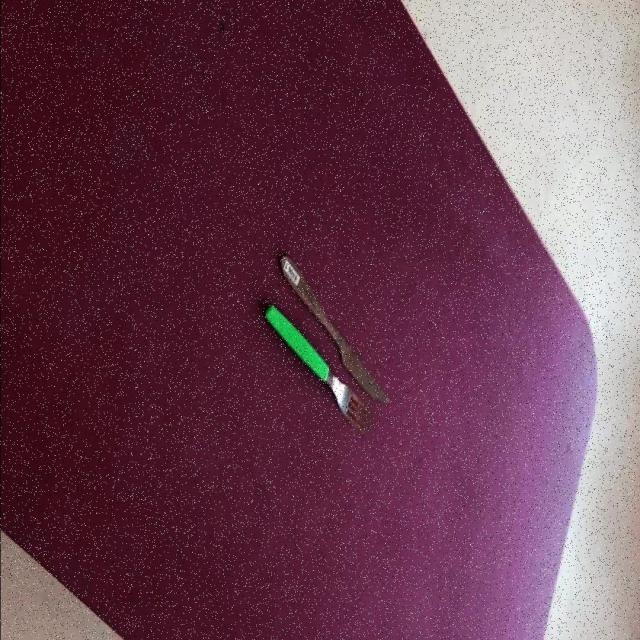Fork: (263, 305, 370, 437)
Knife: (280, 256, 391, 407)
